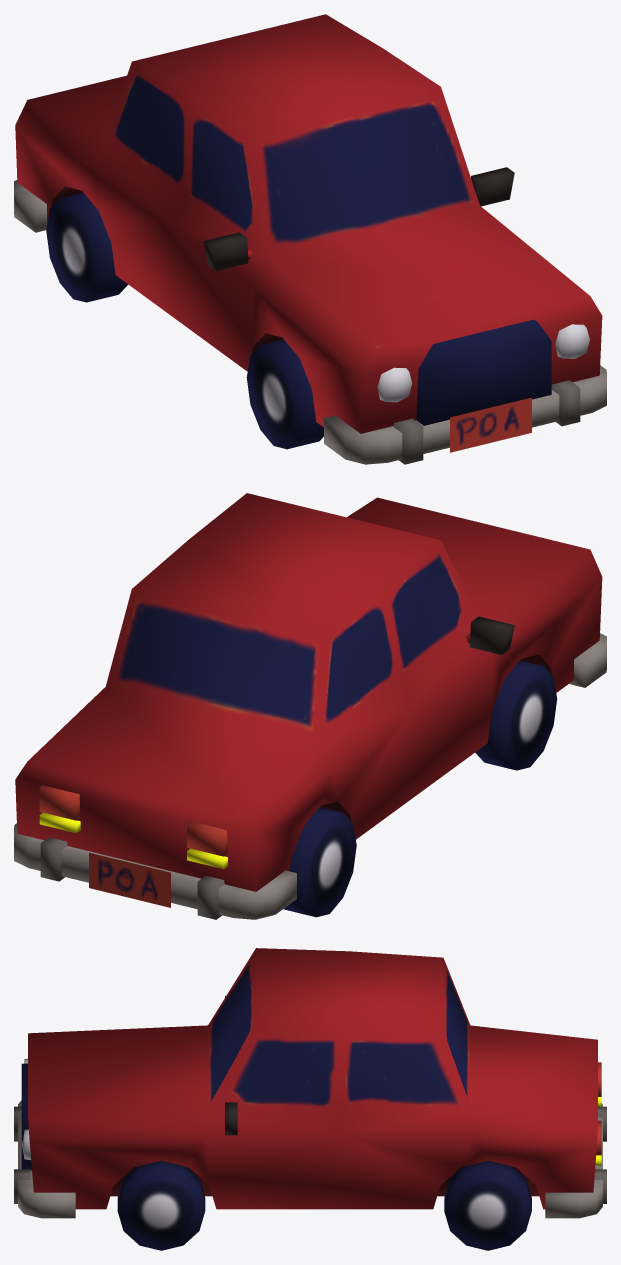
File: CGenerico_1.glb
3 renders of one model, top to bottom at view 1: azimuth 30°, elevation 25°; view 2: azimuth 150°, elevation 25°; view 3: azimuth 270°, elevation 25°, orthographic. The views are drawn at different scales.
Visible parts, largest first — view 1: Generico; view 2: Generico; view 3: Generico.
Part boxes in pixels (<box>): Generico: <box>14,14,606,464</box>; Generico: <box>14,493,606,919</box>; Generico: <box>14,948,606,1250</box>.
Size of the model in its own units: 2.85 by 2.35 by 5.92.
Materials: 1 (1 with a texture image).
